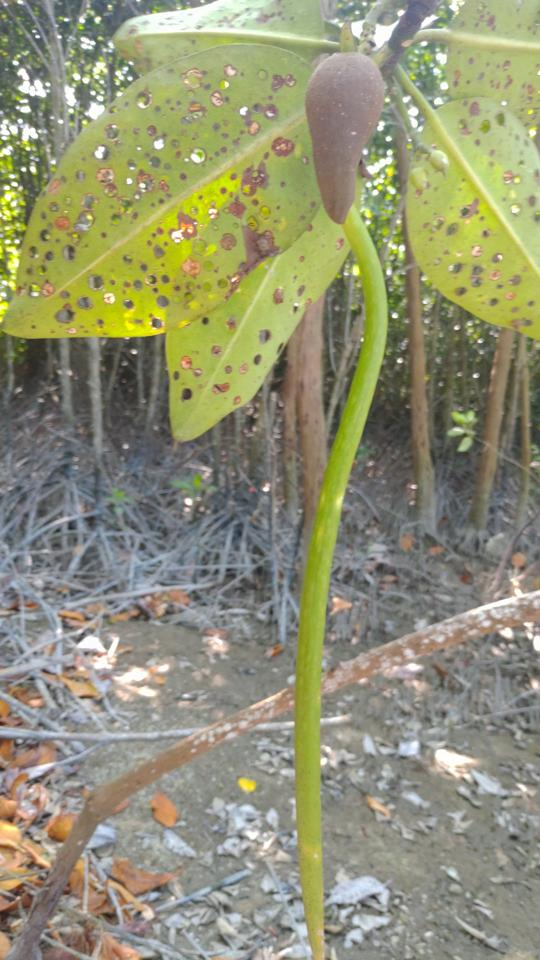mentah: (278, 22, 411, 959)
